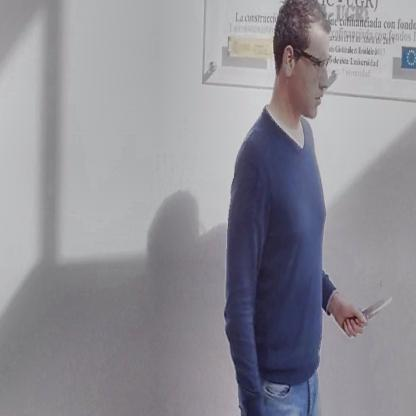knife: (340, 285, 398, 336)
